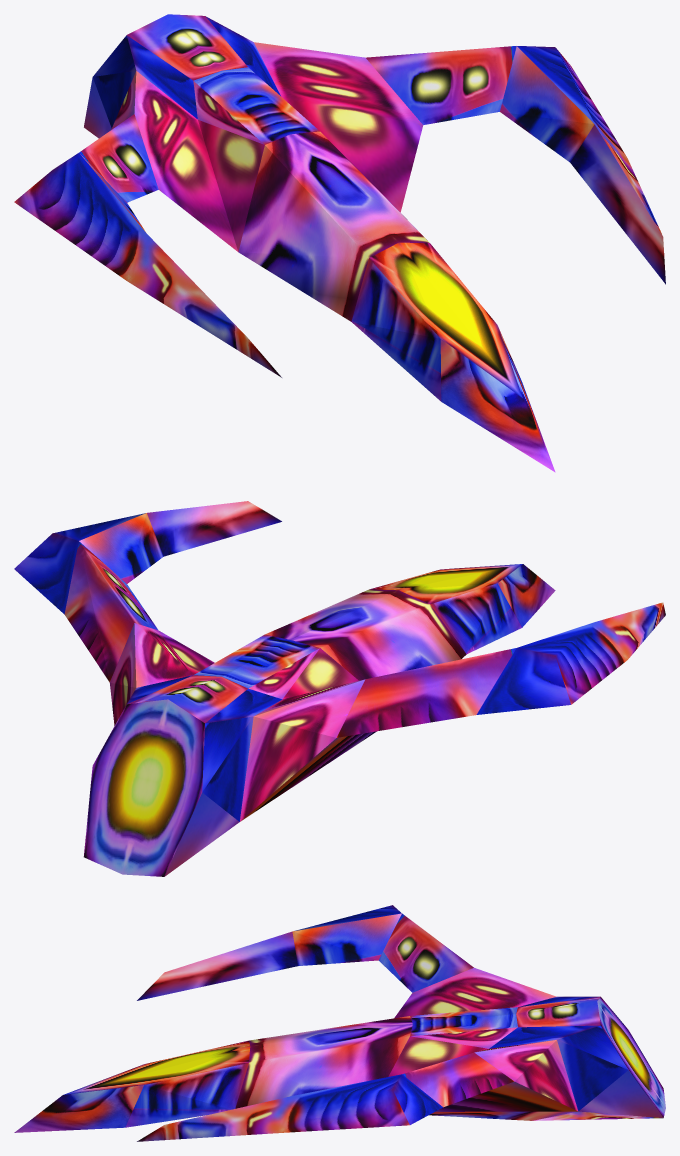
File: ship-62.fbx
3 views of the same model, one above another, from view 1: azimuth 30°, elevation 25°; view 2: azimuth 150°, elevation 25°; view 3: azimuth 270°, elevation 25° (orthographic). The views are drawn at different scales.
Visible parts, largest first — view 1: ship-62; view 2: ship-62; view 3: ship-62.
Part boxes in pixels (x1=…): ship-62: x1=14, y1=14, x2=665, y2=472; ship-62: x1=14, y1=501, x2=665, y2=876; ship-62: x1=14, y1=905, x2=665, y2=1141.
Size of the model in its own units: 56.16 by 17.79 by 75.59.
